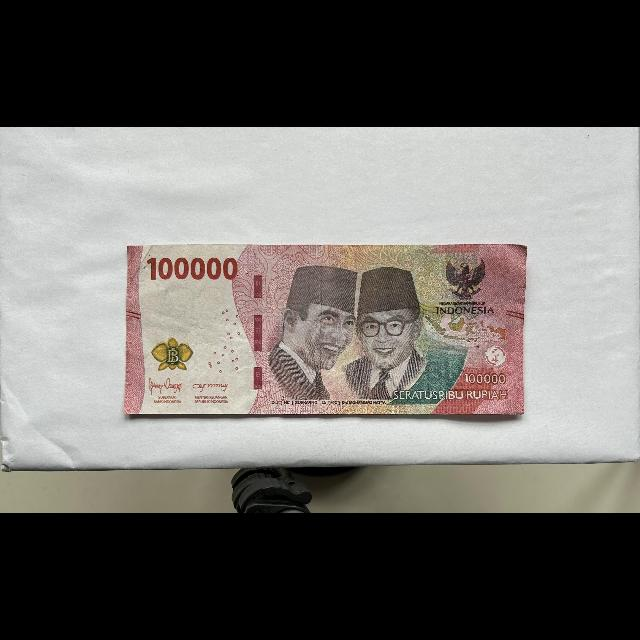Palsu-100k: (122, 242, 528, 416)
Tinta-Palsu-100k: (150, 337, 194, 372)
